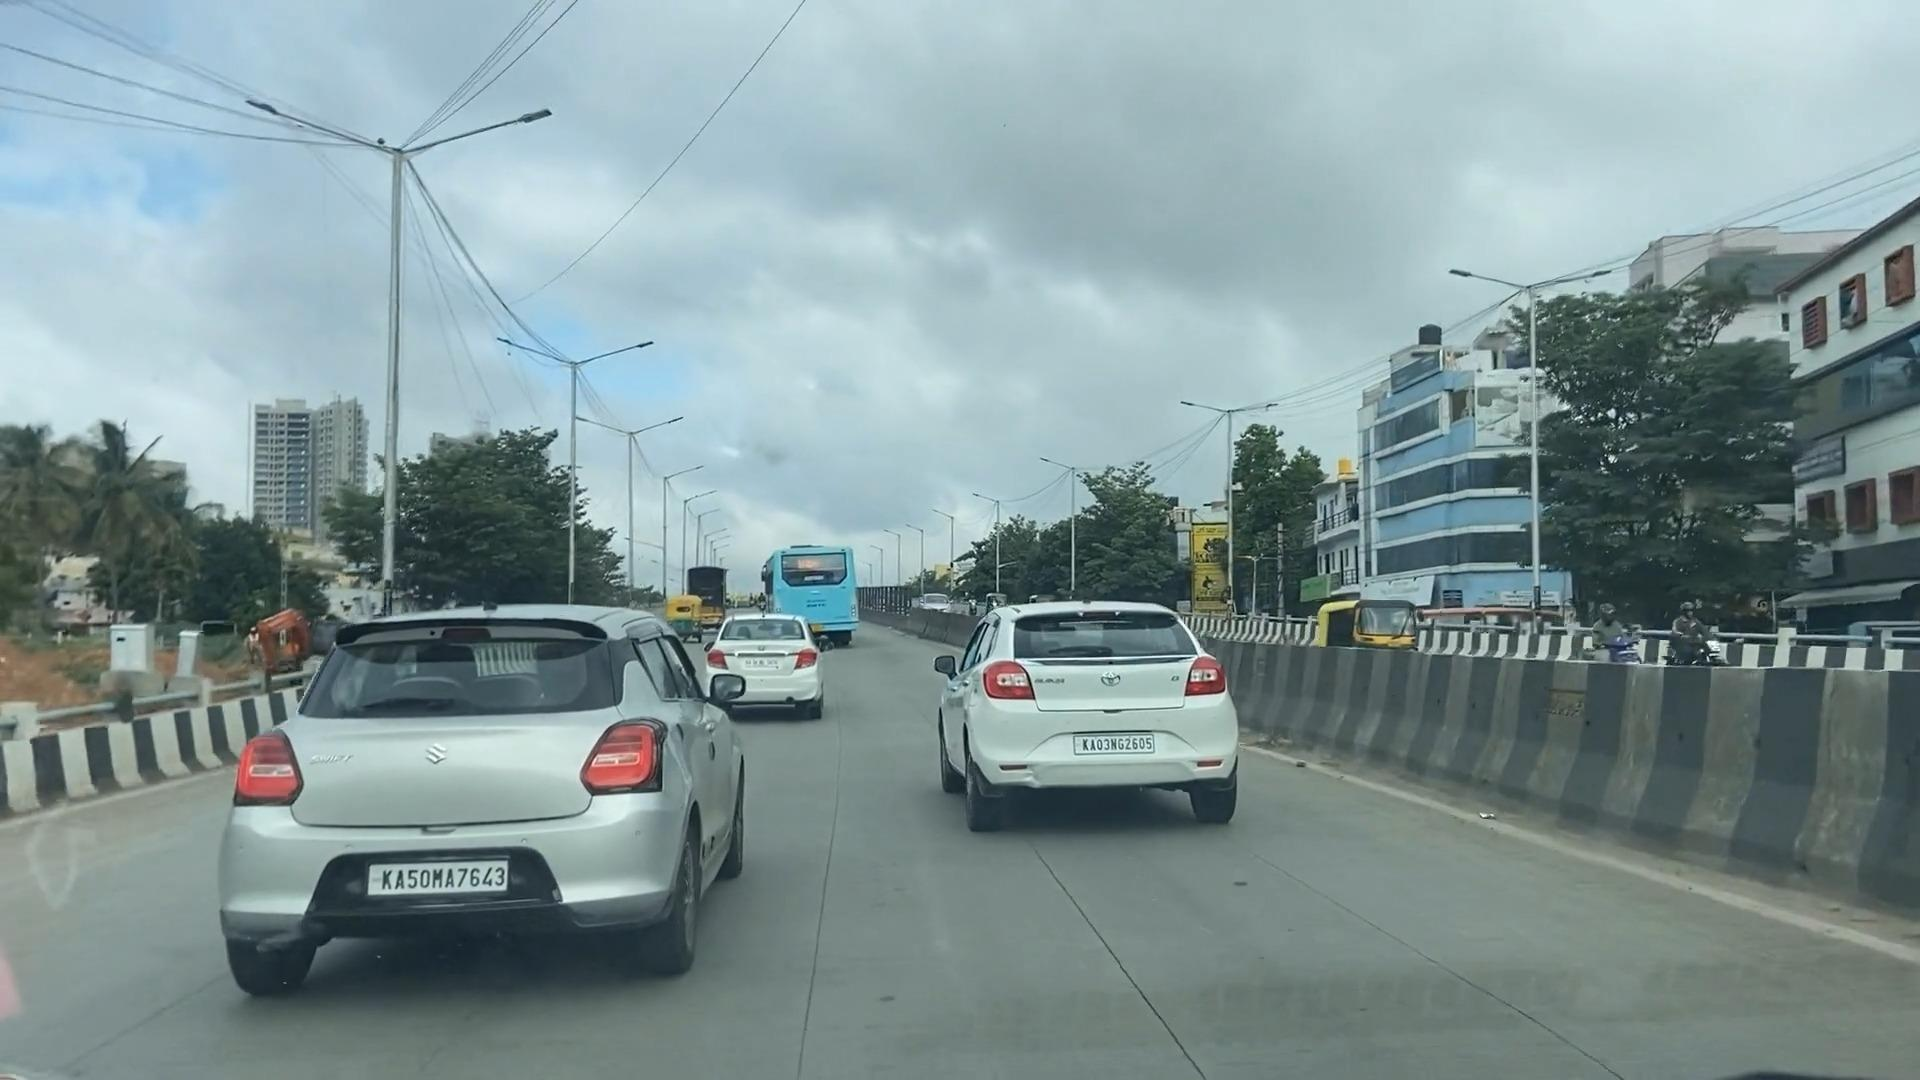HMV: (736, 501, 864, 665)
LMV: (145, 539, 750, 1059), (920, 584, 1253, 857), (676, 587, 833, 740)
